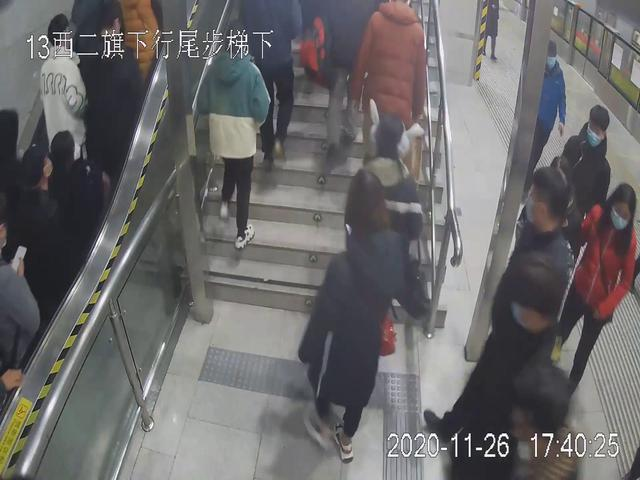person: (432, 164, 575, 453), (295, 171, 419, 463), (190, 25, 274, 249), (520, 104, 609, 306), (563, 179, 640, 402), (356, 1, 435, 177), (32, 15, 86, 156)
